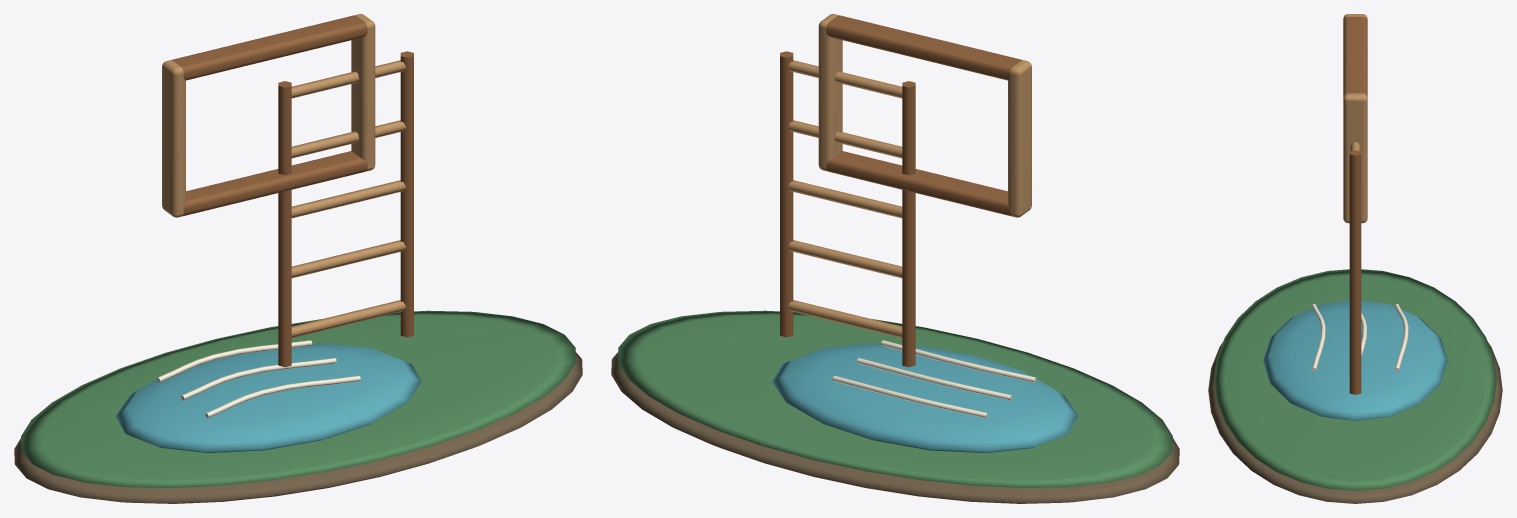
File: deep-pit.glb
3 views of the same model, side by side, from view 1: azimuth 30°, elevation 25°; view 2: azimuth 150°, elevation 25°; view 3: azimuth 270°, elevation 25° (orthographic). The views are drawn at different scales.
Parts seen in each view (by area): view 1: deep-pit_surface_01, deep-pit_surface_02, deep-pit_surface_04, deep-pit_surface_05, deep-pit_surface_00, deep-pit_surface_03; view 2: deep-pit_surface_01, deep-pit_surface_02, deep-pit_surface_04, deep-pit_surface_05, deep-pit_surface_00, deep-pit_surface_03; view 3: deep-pit_surface_01, deep-pit_surface_02, deep-pit_surface_00, deep-pit_surface_04, deep-pit_surface_05, deep-pit_surface_03.
Boxes of the visible parts, x1=… form: deep-pit_surface_01: x1=21, y1=310, x2=575, y2=487; deep-pit_surface_02: x1=116, y1=343, x2=421, y2=452; deep-pit_surface_04: x1=171, y1=15, x2=413, y2=367; deep-pit_surface_05: x1=162, y1=14, x2=406, y2=337; deep-pit_surface_00: x1=14, y1=352, x2=582, y2=503; deep-pit_surface_03: x1=156, y1=340, x2=360, y2=418; deep-pit_surface_01: x1=618, y1=310, x2=1172, y2=487; deep-pit_surface_02: x1=772, y1=343, x2=1077, y2=452; deep-pit_surface_04: x1=780, y1=15, x2=1022, y2=367; deep-pit_surface_05: x1=787, y1=14, x2=1031, y2=337; deep-pit_surface_00: x1=611, y1=352, x2=1179, y2=503; deep-pit_surface_03: x1=832, y1=340, x2=1036, y2=418; deep-pit_surface_01: x1=1214, y1=269, x2=1496, y2=490; deep-pit_surface_02: x1=1263, y1=300, x2=1447, y2=420; deep-pit_surface_00: x1=1208, y1=342, x2=1502, y2=503; deep-pit_surface_04: x1=1343, y1=16, x2=1367, y2=394; deep-pit_surface_05: x1=1343, y1=14, x2=1367, y2=223; deep-pit_surface_03: x1=1311, y1=304, x2=1408, y2=371.
Size of the model in its own units: 4.56 by 3.16 by 2.5.
